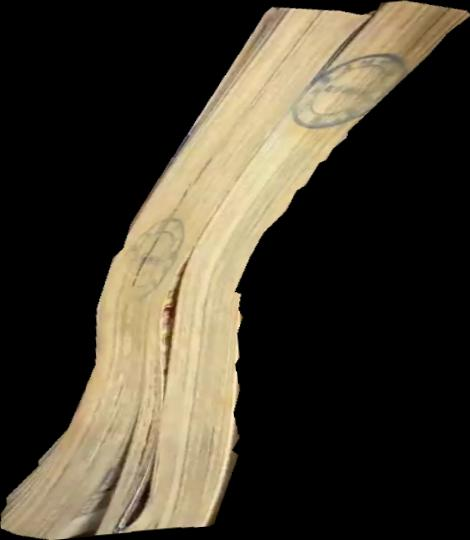backward: (1, 1, 470, 540)
